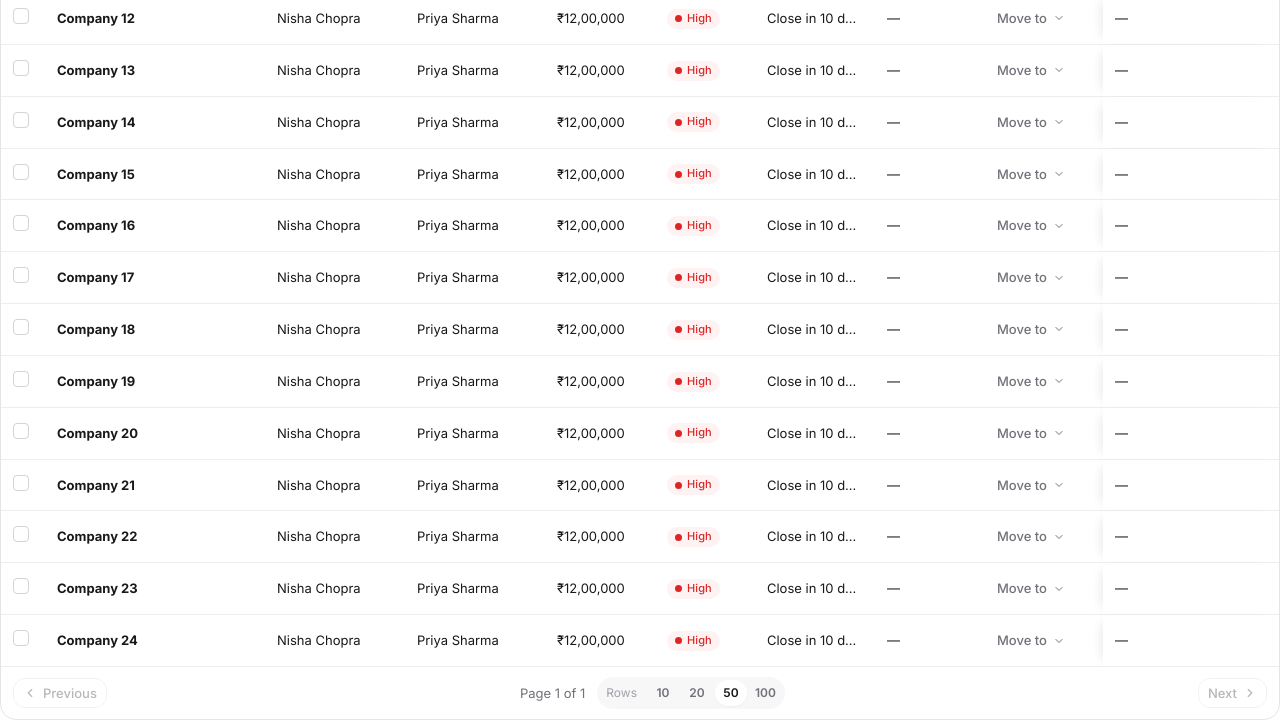
Test case: DealTable pagination › returns to page 1 when the stage tab changes
(page scrolled)
Click the button "10" at (663, 693), box [647,680,679,706]
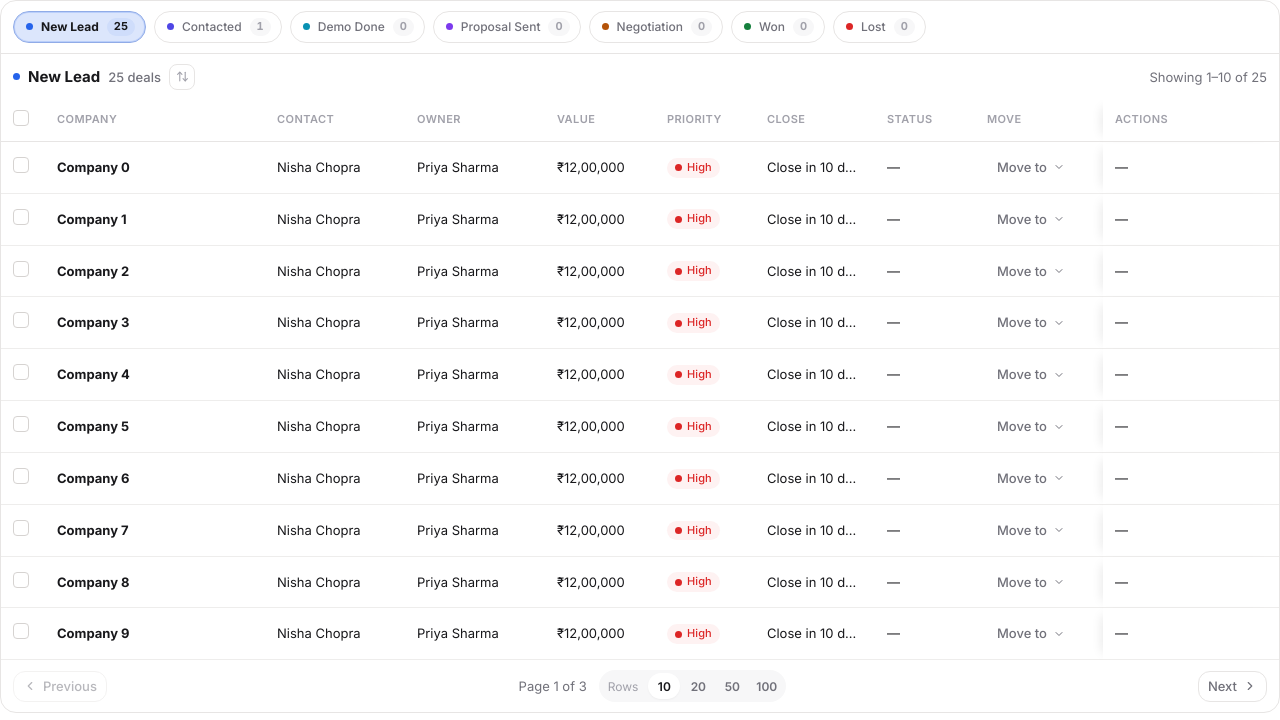
Click the button "Next" at (1232, 686), box [1198,671,1267,702]
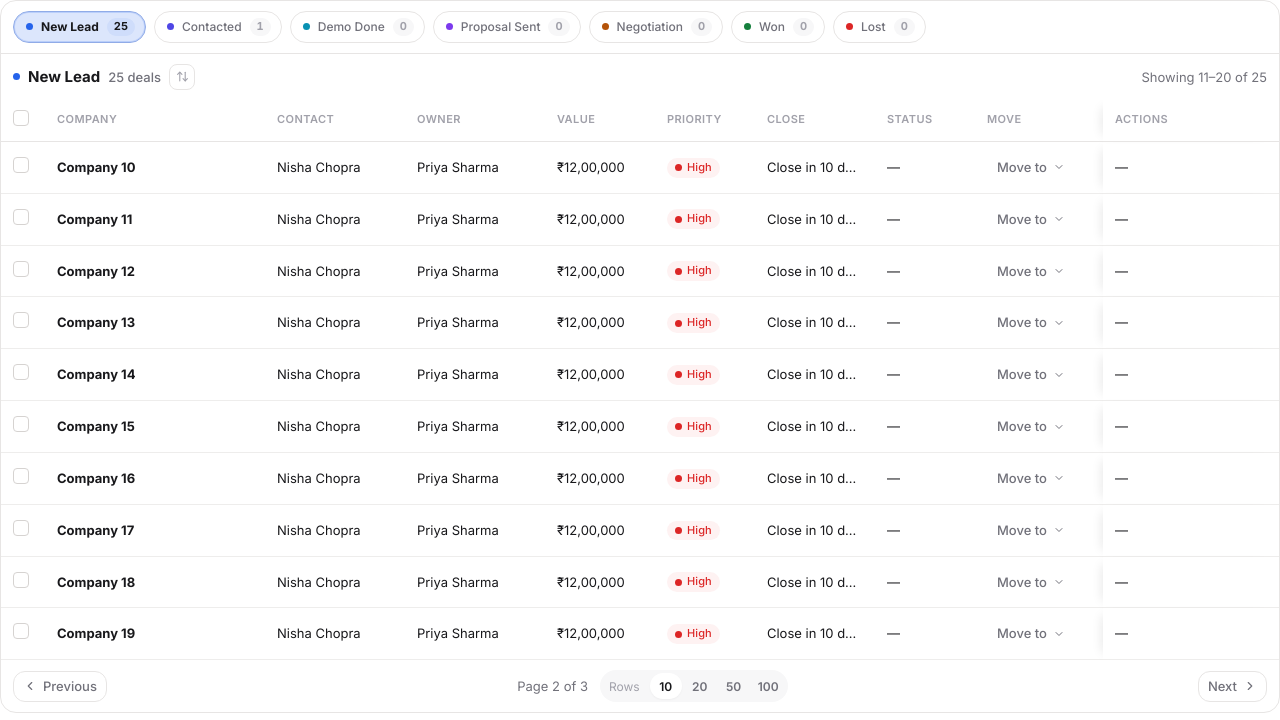
Expected: the text "Page 2 of 3" is shown, [517,677,588,696]
Click the tab "Contacted 1" at (218, 27), box [154,11,282,43]
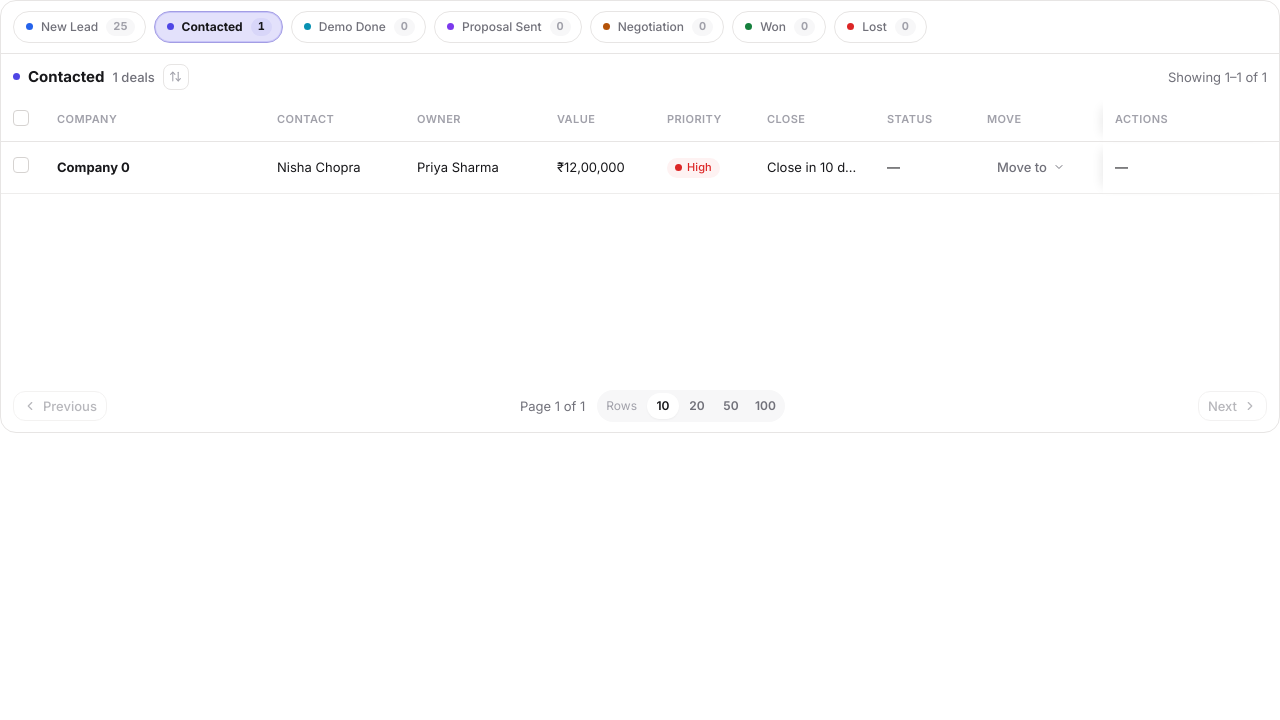
Expected: the text "Page 1 of 1" is shown, [520,396,585,415]
